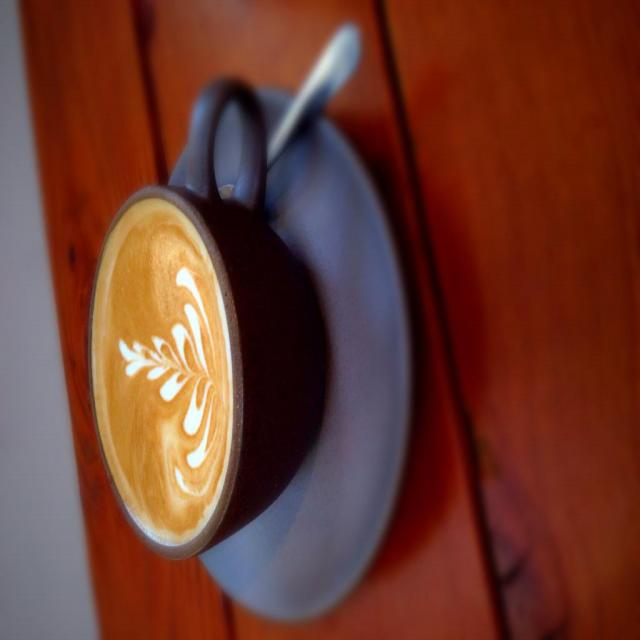latte: (84, 182, 246, 559)
